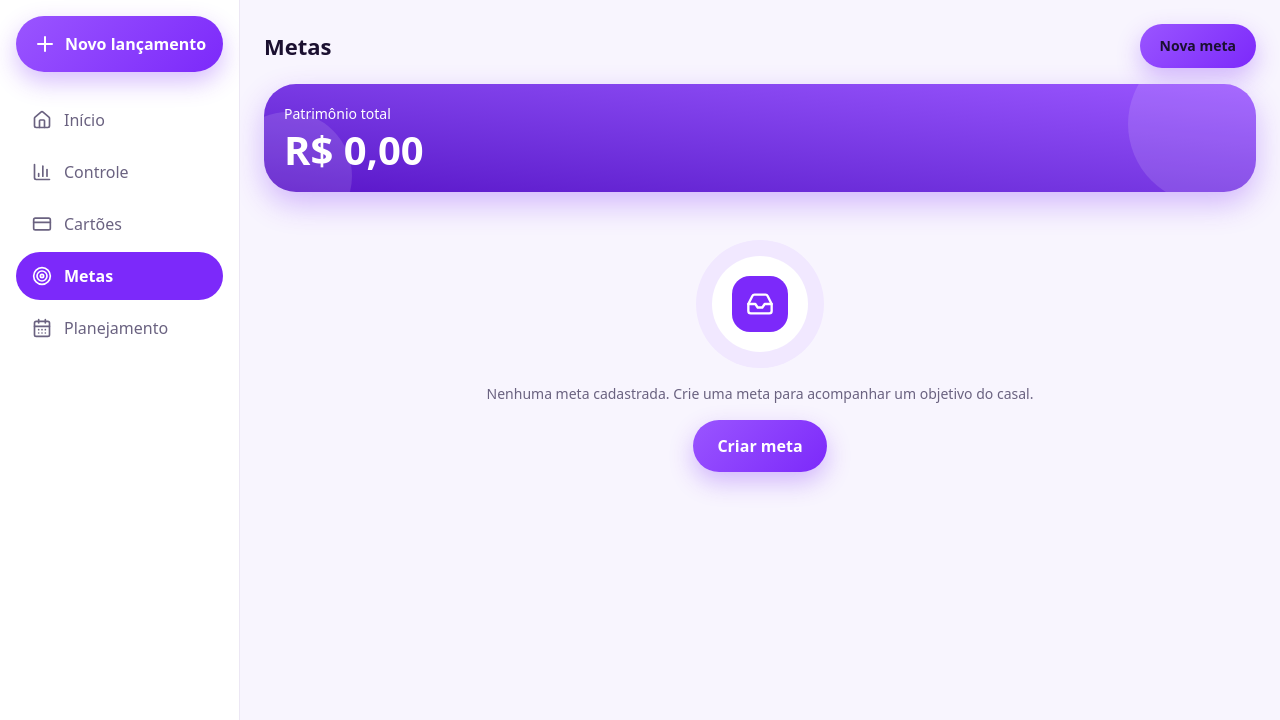
Test: Metas: estado vazio e criação (CA-6.09, CA-0.07) › sem metas mostra o estado vazio com botão Criar meta que abre o formulário
This screenshot has width=1280, height=720.
Expected: the text "Nenhuma meta cadastrada" is shown, x1=486 y1=384 x2=1033 y2=403
Click the button "Criar meta" at (760, 446), box x1=693 y1=420 x2=827 y2=472
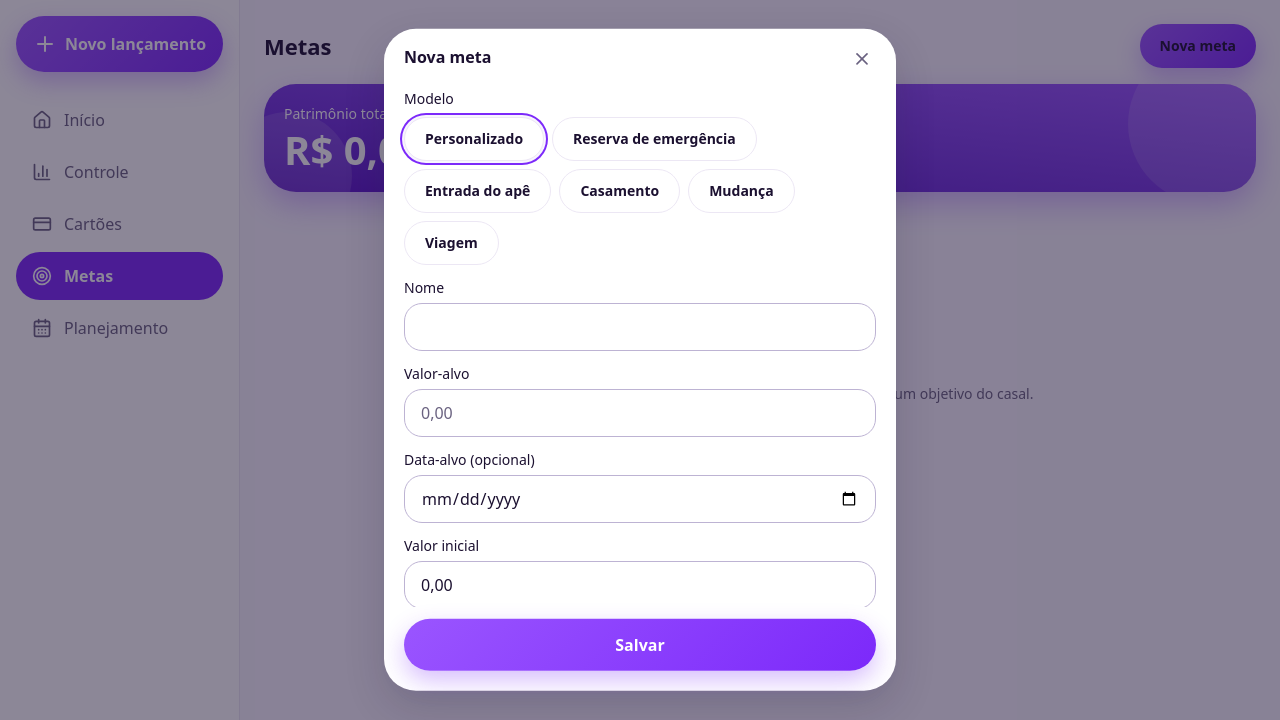
Result: the dialog "Nova meta" is shown at x1=384 y1=29 x2=896 y2=691
